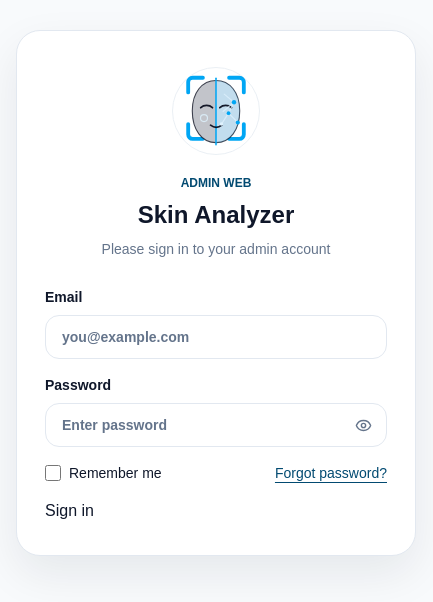
LoginPage auth behavior › shows field validation errors on empty submit
Click the button "Sign in". click: (69, 511)
box: 45,499 -> 94,523
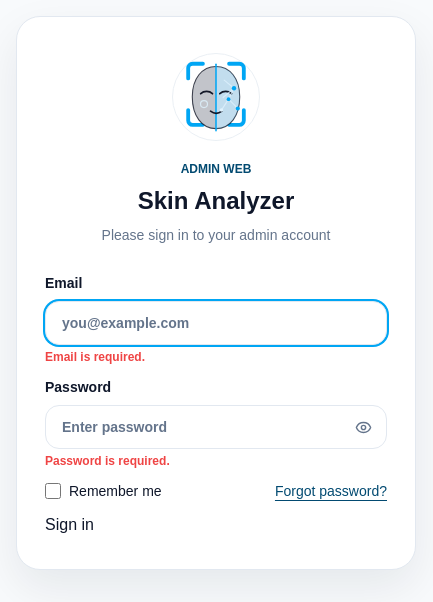
Result: the text "Email is required." is shown at 45,350 -> 145,364
Result: the text "Password is required." is shown at 45,454 -> 170,468
